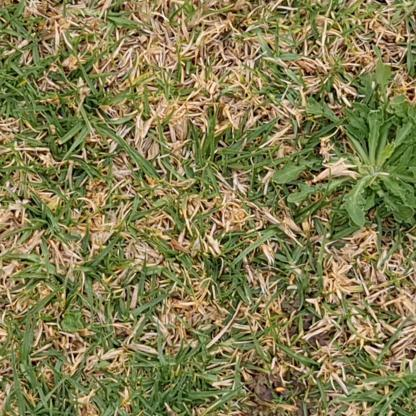Weeds: (275, 43, 415, 227)
